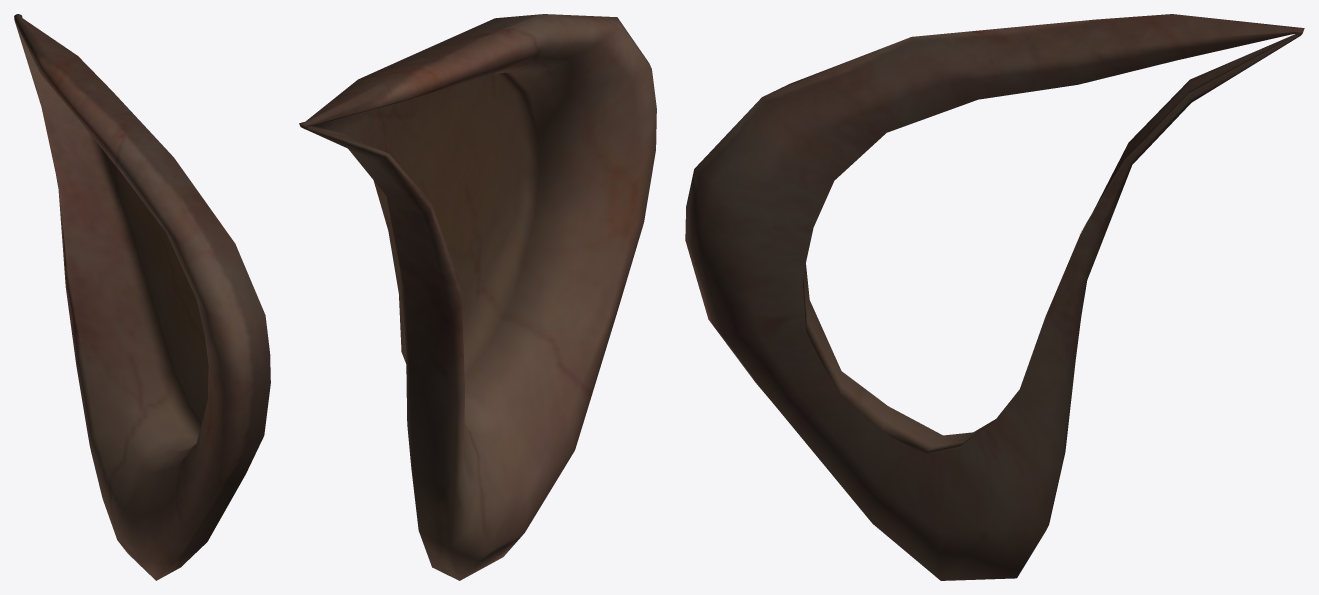
The model's file is Thalamus_Part_A.gltf.
3 renders of one model, left to right at view 1: azimuth 30°, elevation 25°; view 2: azimuth 150°, elevation 25°; view 3: azimuth 270°, elevation 25°, orthographic. The views are drawn at different scales.
Visible parts, largest first — view 1: Thalamus_Part_A; view 2: Thalamus_Part_A; view 3: Thalamus_Part_A.
Part boxes in pixels (left/top/right/bottom): Thalamus_Part_A: left=14, top=14, right=270, bottom=580; Thalamus_Part_A: left=299, top=14, right=656, bottom=580; Thalamus_Part_A: left=685, top=14, right=1304, bottom=580.
Bounding box in the file's own units: 0.5708 × 2.66 × 2.69.
Materials: 1 (1 with a texture image).
